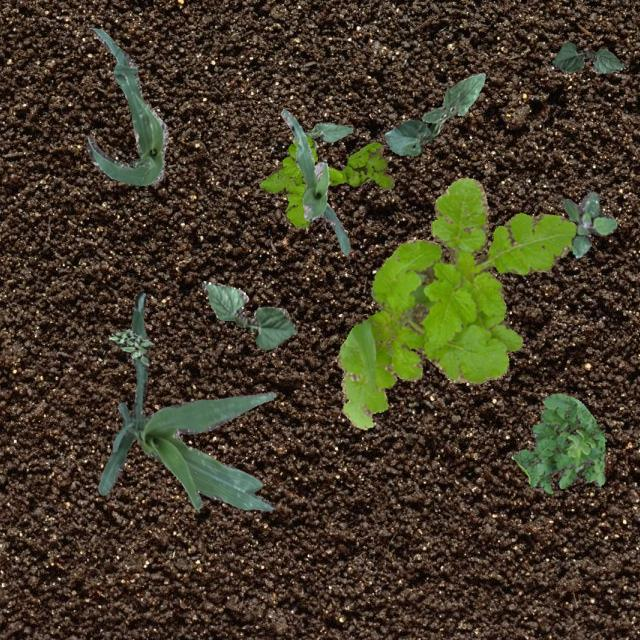crop: (98, 289, 274, 512), (84, 27, 168, 185), (280, 108, 350, 254), (382, 72, 484, 154), (202, 280, 296, 348), (552, 41, 624, 72), (303, 122, 352, 150)
weed: (337, 176, 576, 428), (257, 136, 393, 226), (512, 392, 606, 494), (560, 190, 616, 256), (108, 328, 152, 366)
